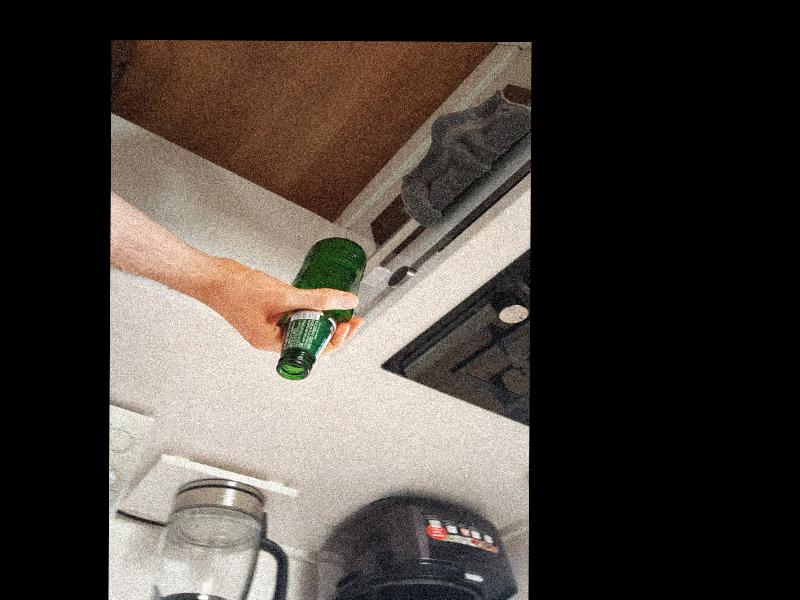Beer: (276, 235, 367, 379)
